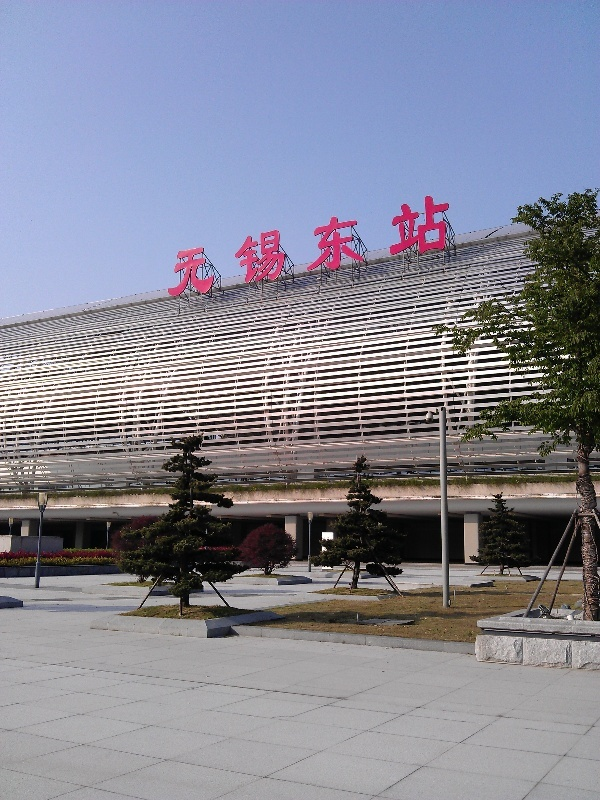text: (177, 190, 192, 301), (193, 190, 208, 301), (209, 190, 224, 301), (225, 190, 240, 301), (241, 190, 256, 301), (257, 190, 272, 301), (273, 190, 288, 301), (289, 190, 304, 301), (305, 190, 320, 301), (321, 190, 336, 301), (337, 190, 352, 301), (353, 190, 368, 301), (369, 190, 384, 301), (385, 190, 400, 301), (401, 190, 416, 301), (417, 190, 432, 301), (433, 190, 448, 301), (168, 190, 176, 301), (449, 190, 452, 301)
